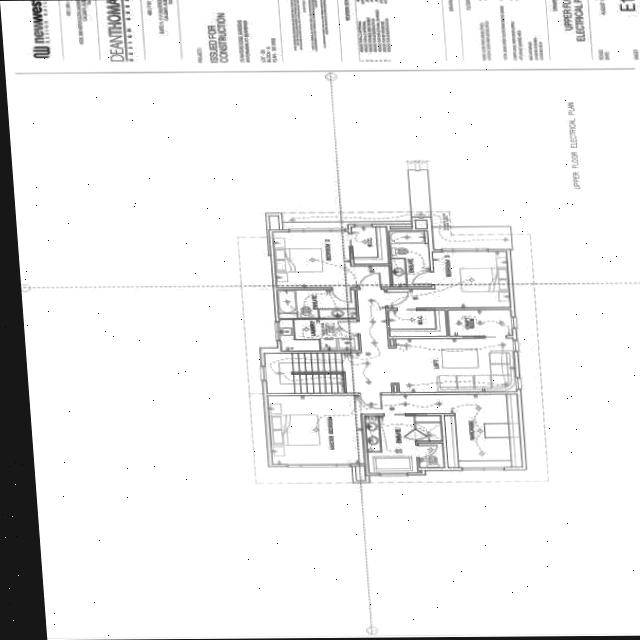room: (268, 393, 522, 468), (387, 250, 511, 307), (273, 230, 391, 287), (365, 415, 442, 472), (389, 228, 431, 289), (279, 318, 359, 350), (277, 289, 356, 317), (448, 309, 513, 335), (351, 223, 389, 266), (388, 309, 447, 335), (418, 440, 444, 469)
